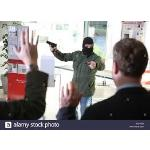Pistol: (46, 39, 58, 50)
